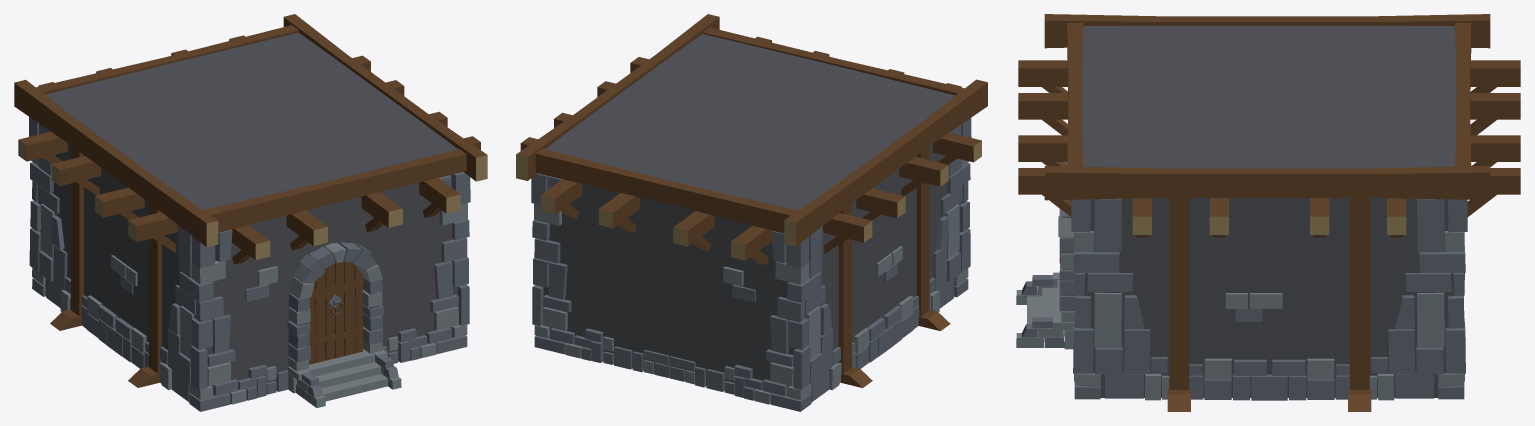
Rendered from House_4_Baked.obj.
3 renders of one model, left to right at view 1: azimuth 30°, elevation 25°; view 2: azimuth 150°, elevation 25°; view 3: azimuth 270°, elevation 25°, orthographic. The views are drawn at different scales.
Visible parts, largest first — view 1: House_4_Cube.037; view 2: House_4_Cube.037; view 3: House_4_Cube.037.
Boxes of the visible parts, <box> form: House_4_Cube.037: <box>14,14,487,411</box>; House_4_Cube.037: <box>516,14,987,411</box>; House_4_Cube.037: <box>1016,14,1520,411</box>.
Size of the model in its own units: 1.94 by 1.07 by 2.12.
Materials: 1 (1 with a texture image).
